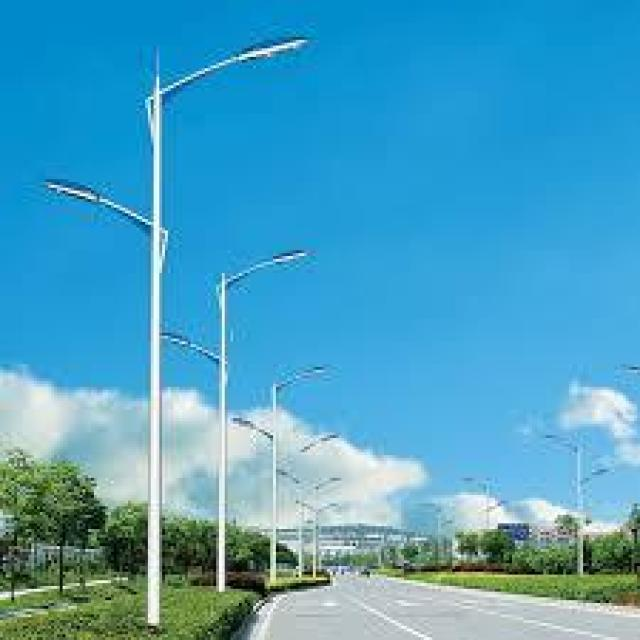pole: (131, 207, 182, 640)
